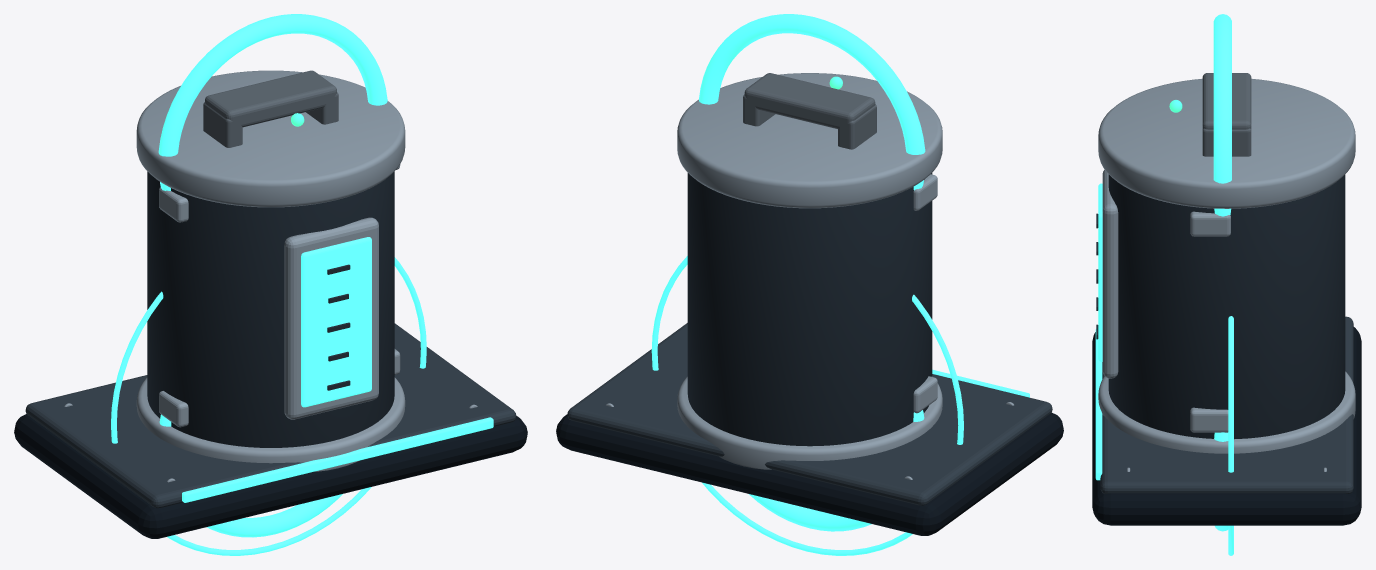
File: Payload.glb
3 renders of one model, left to right at view 1: azimuth 30°, elevation 25°; view 2: azimuth 150°, elevation 25°; view 3: azimuth 270°, elevation 25°, orthographic. The views are drawn at different scales.
Visible parts, largest first — view 1: Payload_Shell, Payload_TopCap, Payload_Base1, Payload_Base0, Payload_Window, Payload_TopGlow, Payload_WindowFrame, Payload_BottomCap, Payload_HandleBridge, Payload_FrontGlow, Payload_Wake, Payload_BottomGlow (+3 smaller); view 2: Payload_Shell, Payload_TopCap, Payload_Base1, Payload_Base0, Payload_TopGlow, Payload_BottomCap, Payload_HandleBridge, Payload_Wake, Payload_BottomGlow, Payload_HandleLeg_-1, Payload_LatchBot_-1; view 3: Payload_Shell, Payload_TopCap, Payload_Base1, Payload_Base0, Payload_BottomCap, Payload_TopGlow, Payload_WindowFrame, Payload_HandleBridge, Payload_Wake, Payload_LatchTop_1, Payload_LatchBot_1, Payload_FrontGlow (+2 smaller).
Boxes of the visible parts, x1,y1,x2,y2 form: Payload_Shell: (147,171,394,447); Payload_TopCap: (136,70,405,207); Payload_Base1: (25,323,516,508); Payload_Base0: (14,414,527,538); Payload_Window: (301,237,371,407); Payload_TopGlow: (158,14,387,190); Payload_WindowFrame: (284,217,378,419); Payload_BottomCap: (136,377,405,471); Payload_HandleBridge: (205,70,336,127); Payload_FrontGlow: (182,417,493,502); Payload_Wake: (111,257,426,555); Payload_BottomGlow: (159,414,342,537); Payload_Shell: (687,173,932,446); Payload_TopCap: (677,73,942,208); Payload_Base1: (567,323,1052,505); Payload_Base0: (556,412,1063,535); Payload_TopGlow: (699,14,925,190); Payload_BottomCap: (677,376,942,469); Payload_HandleBridge: (744,73,875,128); Payload_Wake: (651,256,963,555); Payload_BottomGlow: (749,410,924,531); Payload_HandleLeg_-1: (838,104,876,149); Payload_LatchBot_-1: (913,376,937,413); Payload_Shell: (1108,174,1345,439); Payload_TopCap: (1098,78,1355,208); Payload_Base1: (1100,316,1353,493); Payload_Base0: (1092,327,1361,525); Payload_BottomCap: (1098,371,1355,453); Payload_TopGlow: (1213,14,1231,216); Payload_WindowFrame: (1102,169,1118,378); Payload_HandleBridge: (1202,73,1251,129); Payload_Wake: (1228,316,1233,555); Payload_LatchTop_1: (1190,211,1230,236); Payload_LatchBot_1: (1190,407,1228,432); Payload_FrontGlow: (1095,329,1102,480).
Size of the model in its own units: 2.1 by 2.78 by 1.32.
